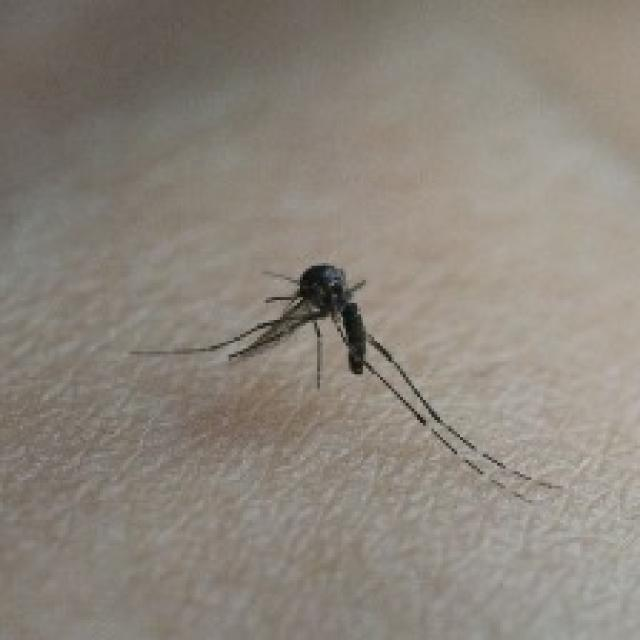aedes: (126, 257, 563, 506)
